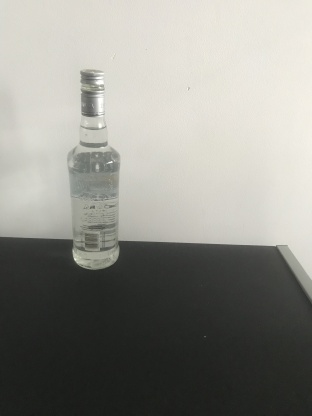nakretka: (79, 67, 106, 118)
